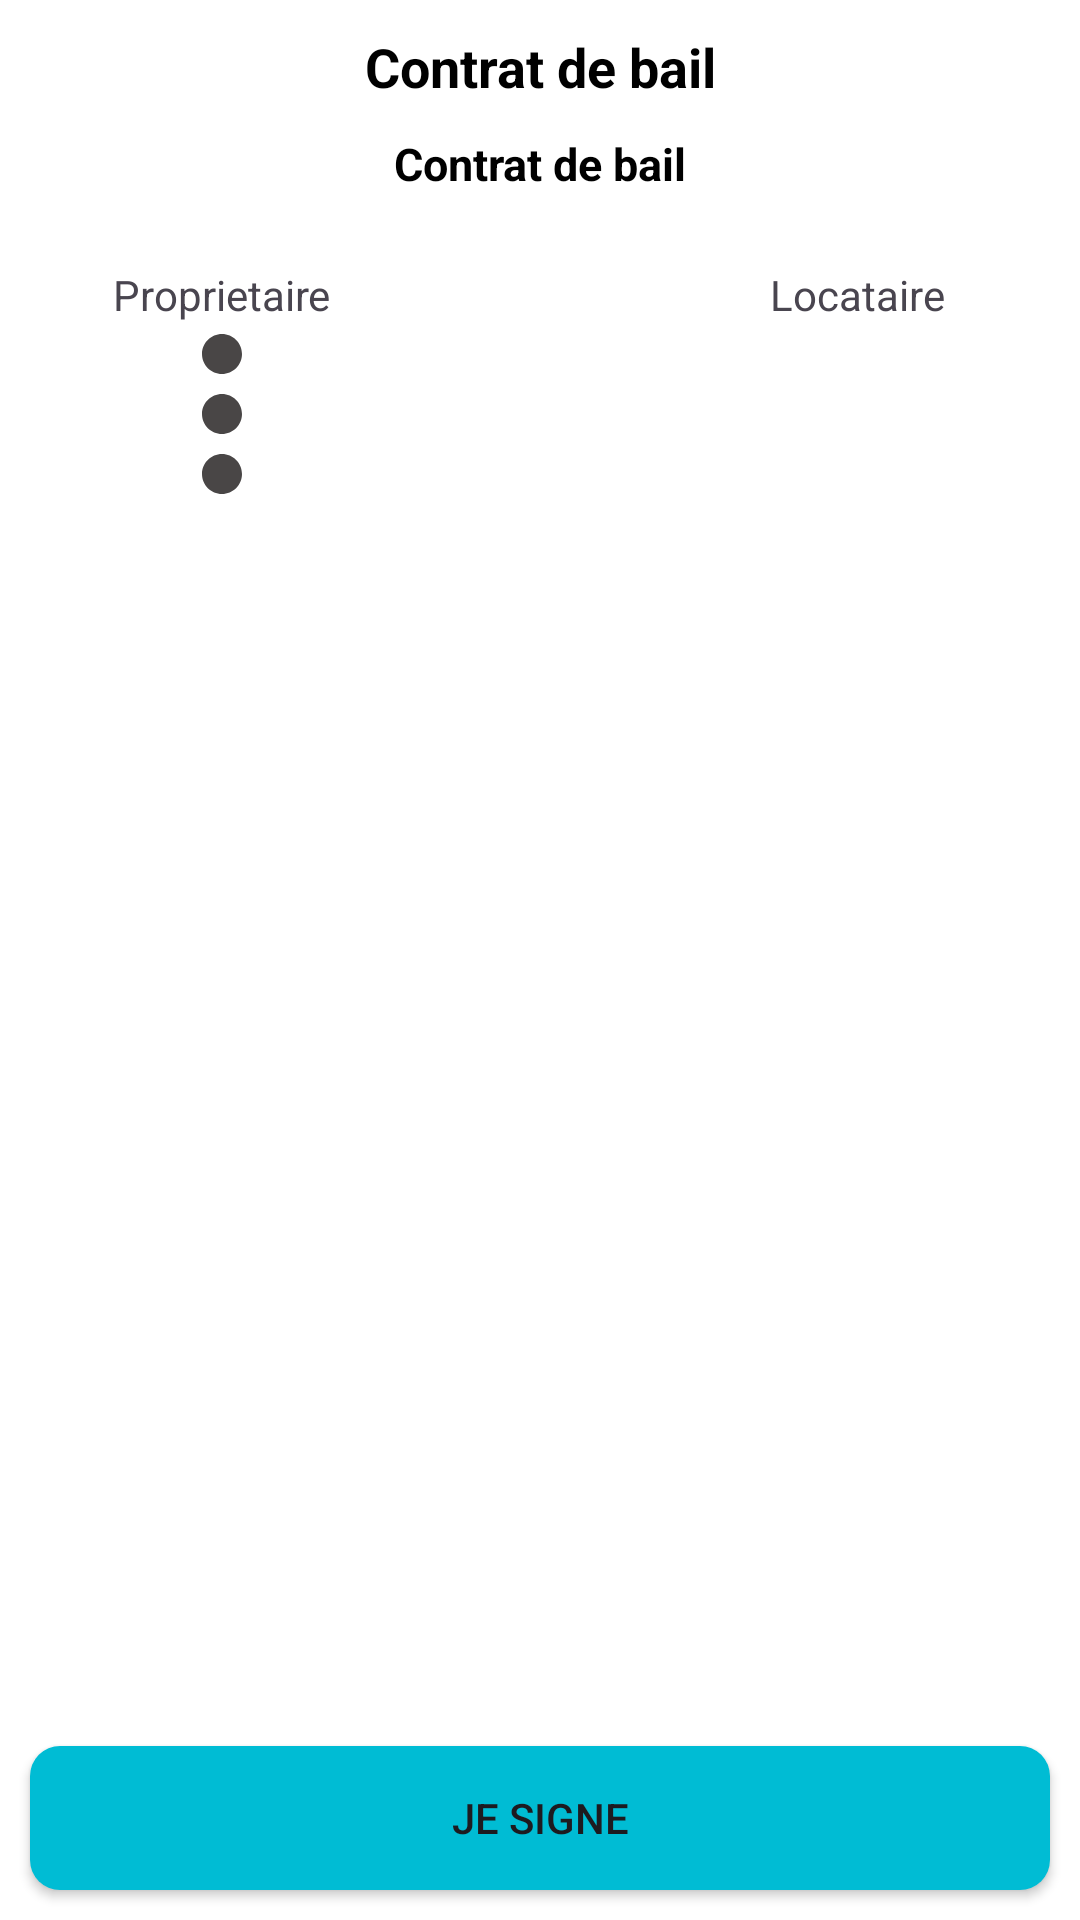

Point at icon controls on the screen. Image size 1080 x 1920, points as [x,y].
more: [222,414]
